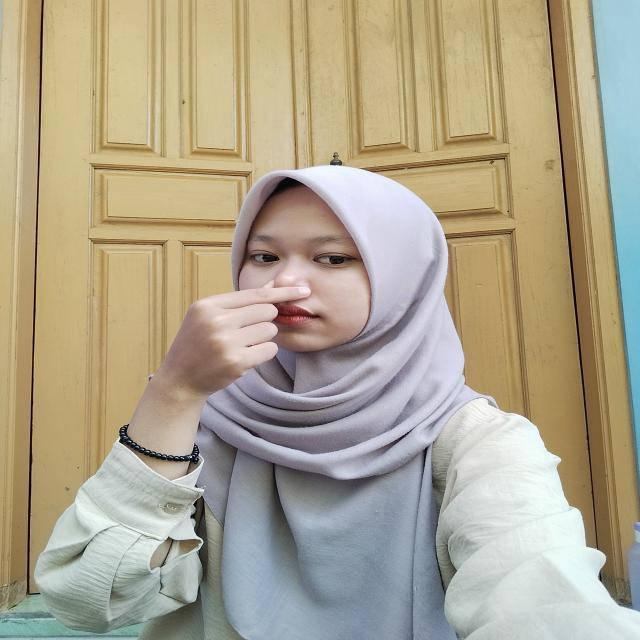bau: (136, 267, 324, 393)
